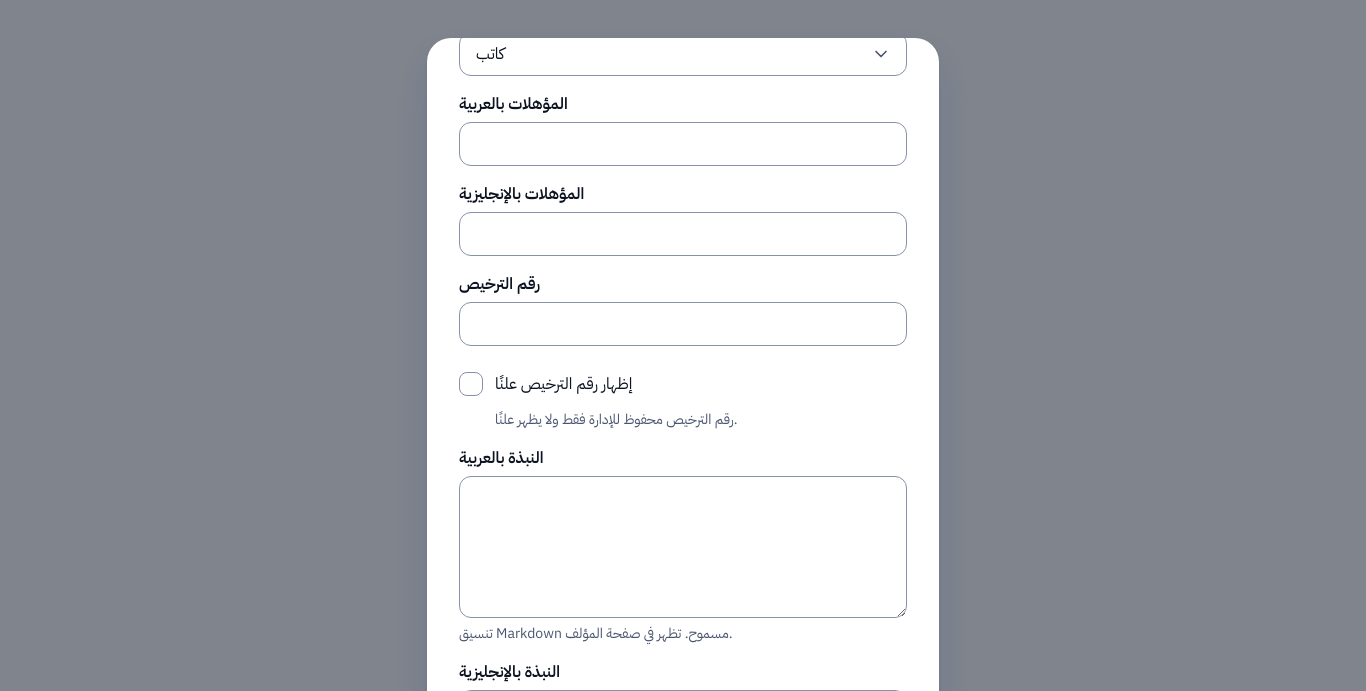
Test: PersonDialog › explains that the licence number becomes public when its switch is on
The width and height of the screenshot is (1366, 691).
(page scrolled)
Expected: the text "رقم الترخيص محفوظ للإدارة فقط ولا يظهر علنًا." is shown, [495,409,738,430]
Click the checkbox labelled "إظهار رقم الترخيص علنًا" at (471, 384), box [459,372,483,396]
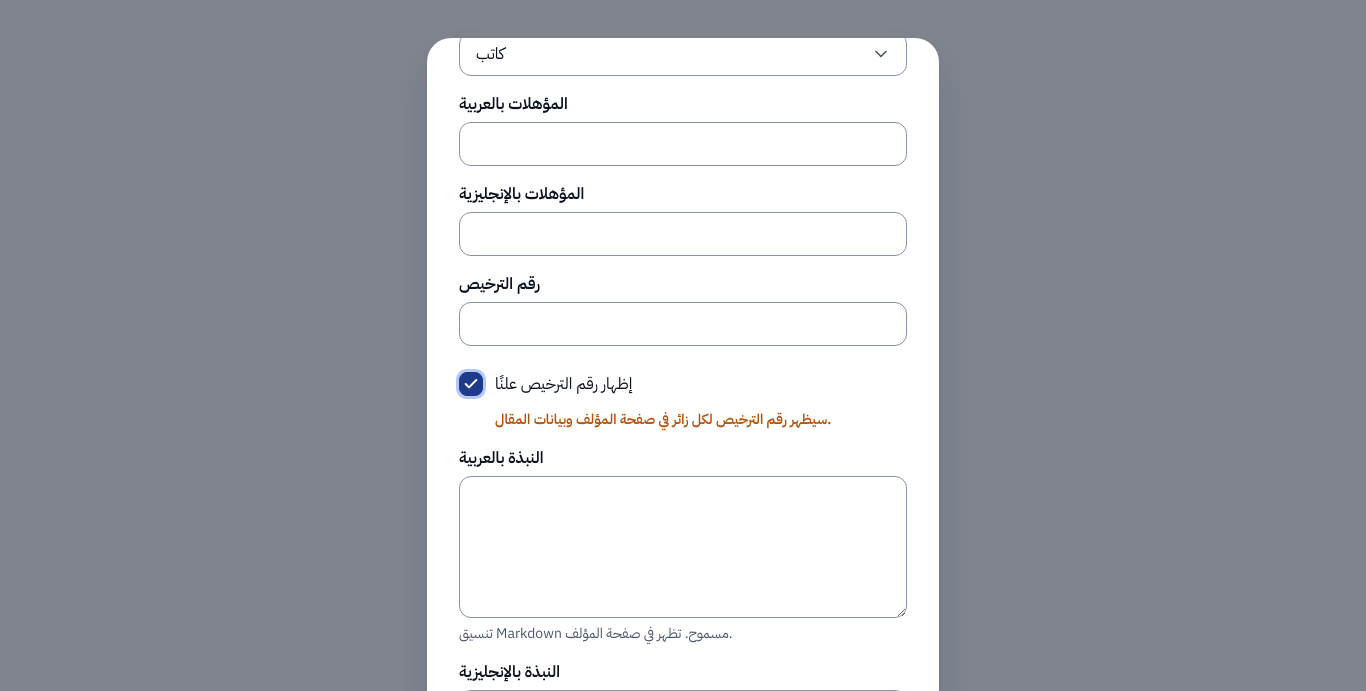
Result: the text "سيظهر رقم الترخيص لكل زائر في صفحة المؤلف وبيانات المقال." is shown at [495,409,831,430]
Result: the text "رقم الترخيص محفوظ للإدارة فقط ولا يظهر علنًا." is gone
